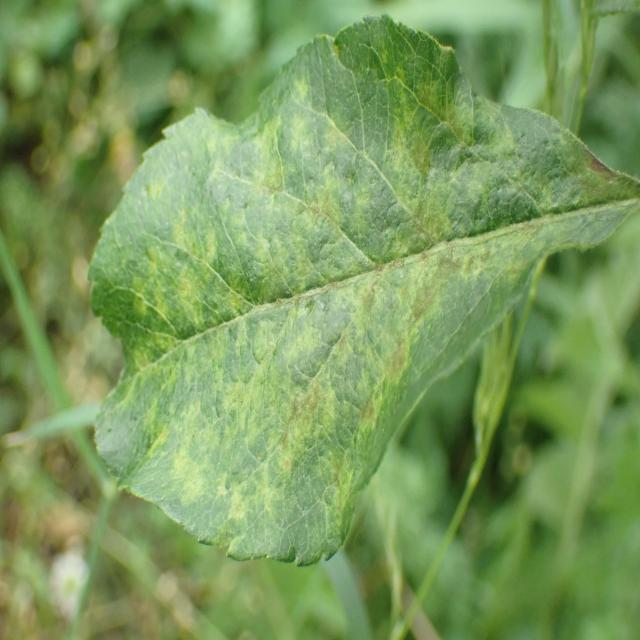scab: (103, 70, 626, 562)
